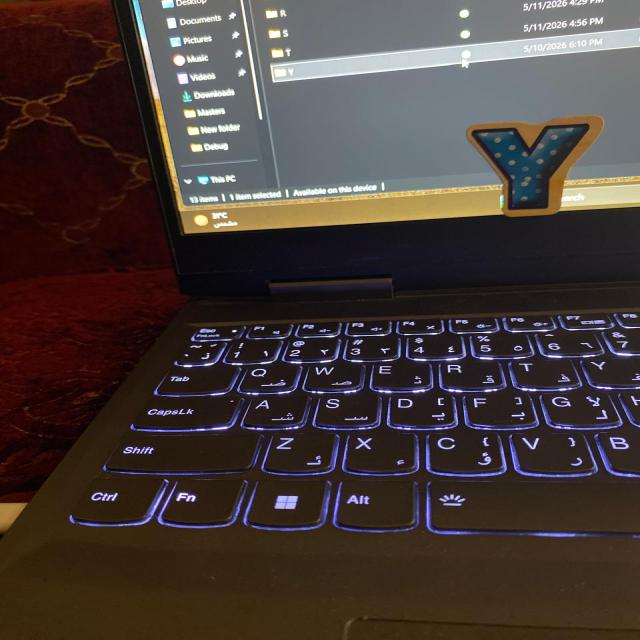Y: (467, 116, 601, 214)
